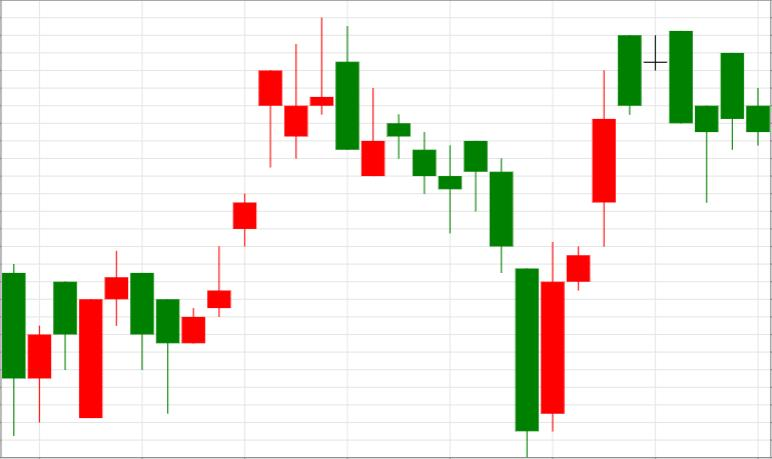hanging_man_fall: (181, 69, 283, 344)
